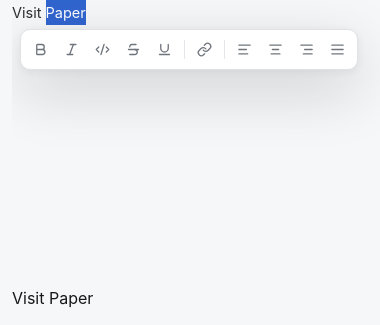
Scenario: MarkdownEditor integration › applies links from the floating toolbar
The width and height of the screenshot is (380, 325).
What coordinates should you click on to do the following:
click the button named "Link"
I would click on:
 (204, 50)
Its box is [190,35,219,64].
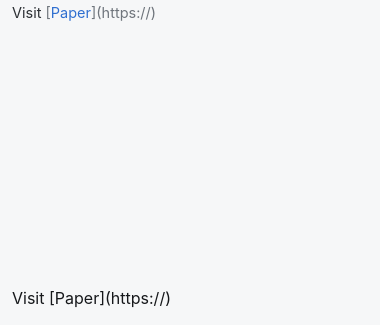
Result: the text box labelled "Visit [ Paper ](https://)" is shown at [12,4,156,21]
